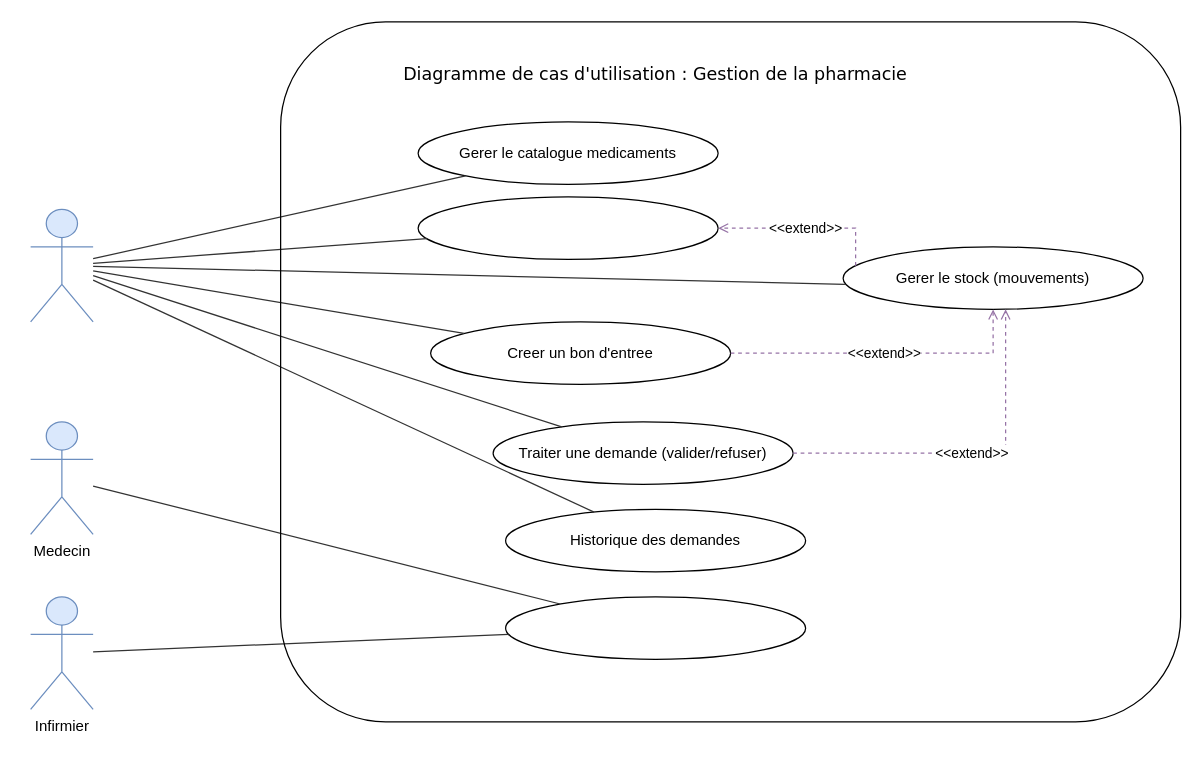
This 1203x758 diagram has some shape labels left out. Each missing label, with the centre of its shape:
"Alertes de stock bas" goes at pixel 567 227.
"Envoyer une demande de medicament" goes at pixel 655 627.
"Pharmacien" goes at pixel 61 265.
